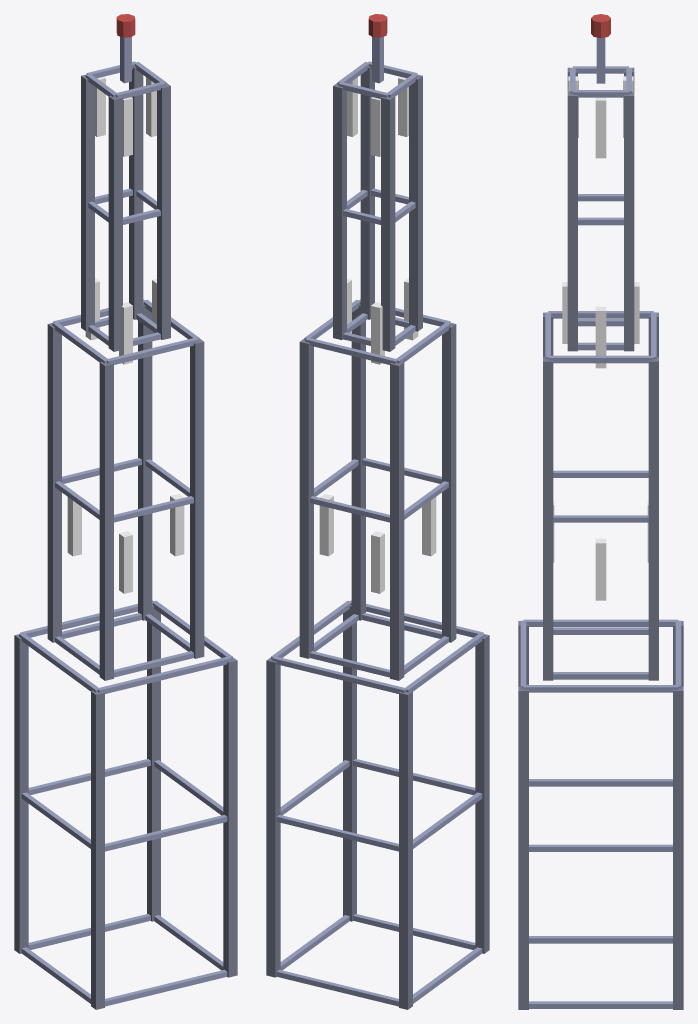
Rendered from pylone-telecom.glb.
3 renders of one model, left to right at view 1: azimuth 30°, elevation 25°; view 2: azimuth 150°, elevation 25°; view 3: azimuth 270°, elevation 25°, orthographic.
Visible parts, largest first — view 1: pylone-telecom; view 2: pylone-telecom; view 3: pylone-telecom.
Part boxes in pixels (bbox=[...]): pylone-telecom: bbox=[14, 14, 237, 1009]; pylone-telecom: bbox=[266, 14, 489, 1009]; pylone-telecom: bbox=[518, 14, 683, 1009].
Bounding box in the file's own units: 0.235 × 1.5 × 0.235.
1 material, 1 textured.
